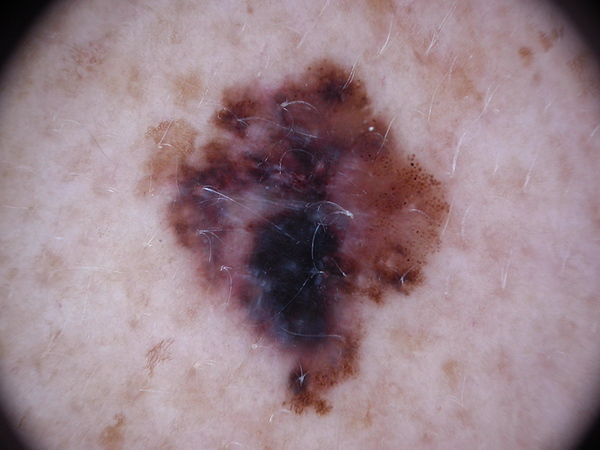Detected Lesion: (143, 52, 453, 422)
